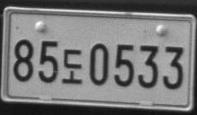0: (88, 42, 110, 86)
3: (136, 44, 159, 89), (161, 45, 183, 90)
5: (113, 43, 135, 88), (37, 40, 59, 83)
8: (11, 37, 34, 83)
도: (60, 48, 83, 84)
